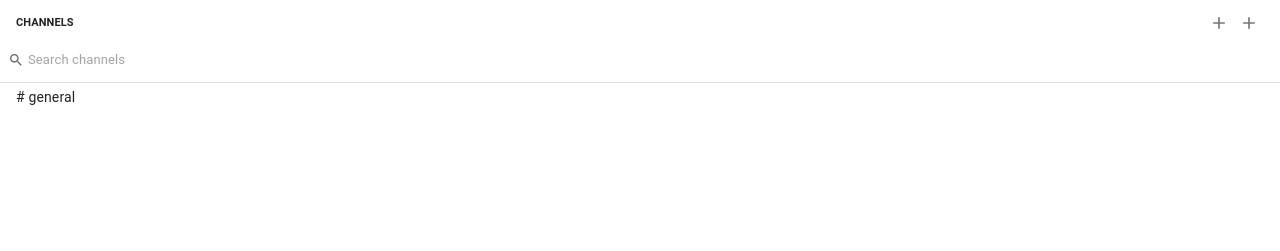
Test case: ChannelList: ピン留めチャンネルのUI表示 › ピン留め操作UI › ピン留め済みチャンネルにホバーすると3点メニューに「ピン留めを解除」が表示される
Hover over the list item "# general": (46, 97) [16,89,75,105]
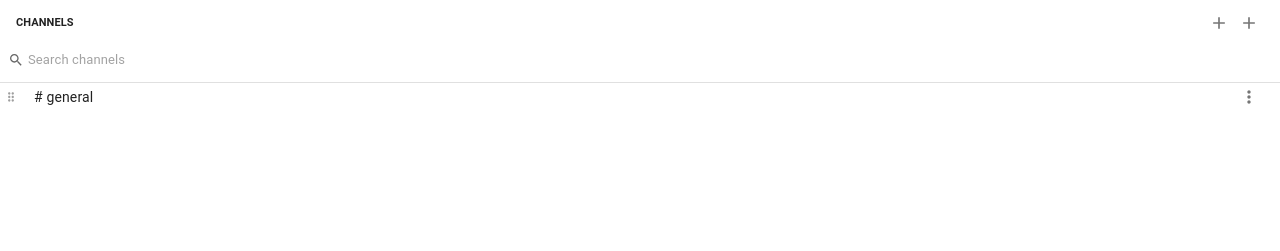
Click the button named "その他のアクション": (1249, 97) [1234,82,1264,112]
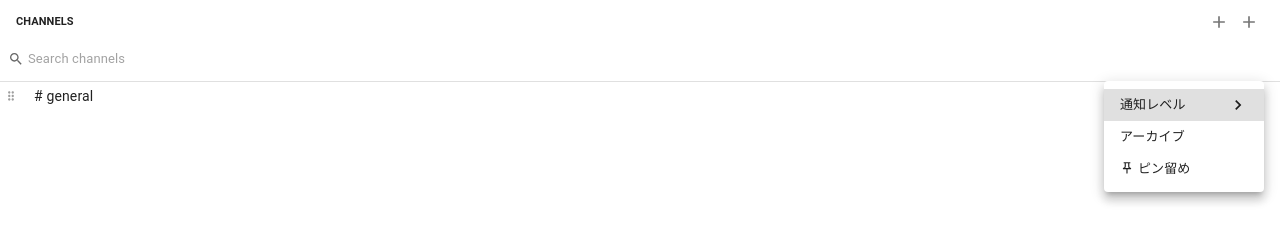
Expected: the menu item "ピン留め" is shown
Click the menu item "ピン留め": (1155, 168) [1120,160,1190,176]
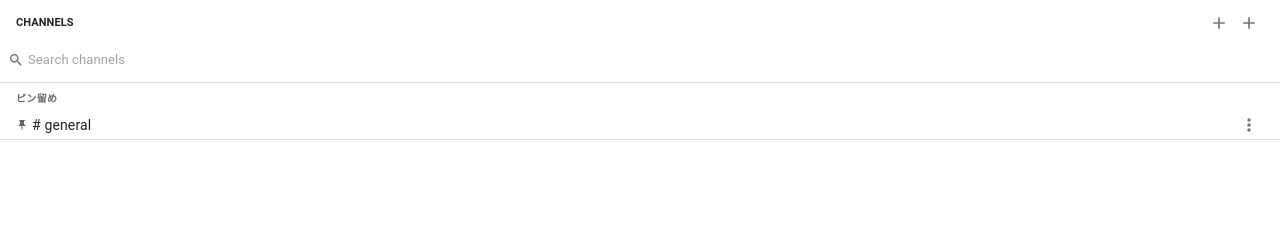
Expected: the element with test id "pinned-channels" is shown, [0,83,1279,140]
Click the button named "その他のアクション": (1249, 125) [1234,110,1264,140]
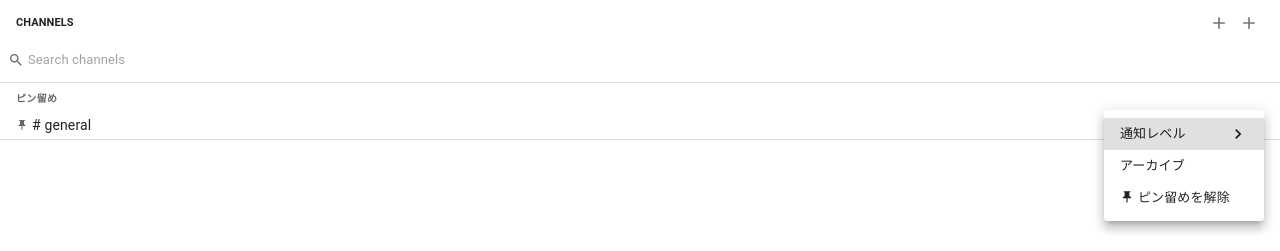
Expected: the menu item "ピン留めを解除" is shown, [1120,190,1230,204]
